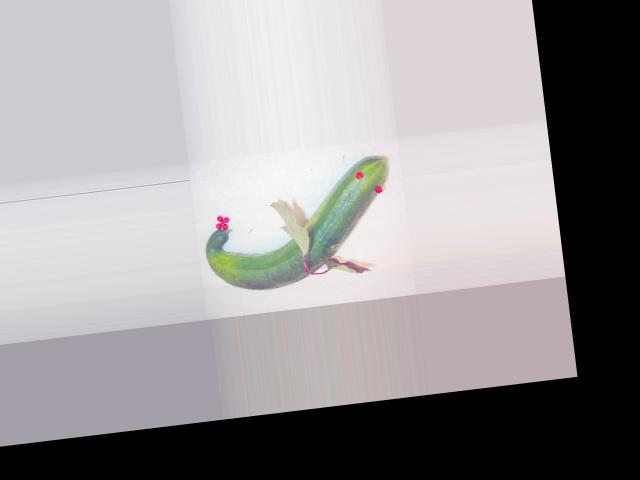cucumber: (196, 154, 399, 296)
